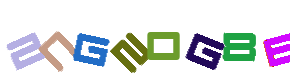2: (0, 0, 80, 80), (103, 0, 183, 80)
8: (199, 0, 279, 80)
C: (49, 0, 129, 80)
E: (209, 0, 289, 80)
G: (56, 0, 136, 80), (165, 0, 245, 80)
O: (105, 0, 185, 80)
